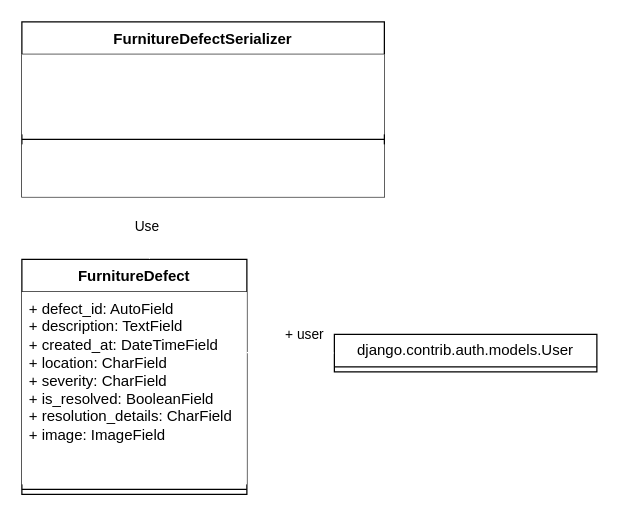
Image size: 619x516. Some labels were removed from this diagram. Here are the shapes that lost their labels. From the top down, the centre of each, then its label:
At point 202,94: "+ model: FurnitureDefect + fields: list[str] + read_only_fields: list[str]".
At point 202,170: "+ create(self, validated_data): FurnitureDefect".
